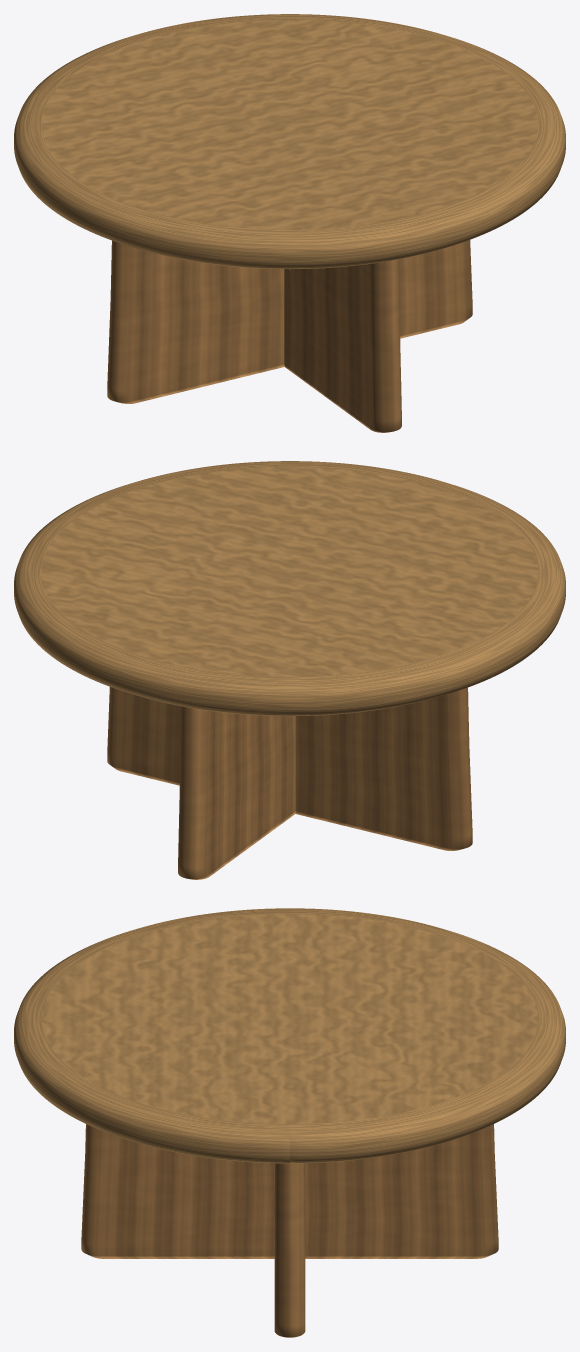
Rendered from round_wood_coffee_table.glb.
The picture shows the model from 3 angles, top to bottom: view 1: azimuth 30°, elevation 25°; view 2: azimuth 150°, elevation 25°; view 3: azimuth 270°, elevation 25°; orthographic projection.
Parts seen in each view (by area): view 1: Top Surface, Top Rounded Edge, Cross Pedestal A, Cross Pedestal B; view 2: Top Surface, Top Rounded Edge, Cross Pedestal A, Cross Pedestal B; view 3: Top Surface, Cross Pedestal B, Top Rounded Edge, Cross Pedestal A.
Boxes of the visible parts, box(x1,y1,x2,y2) form: Top Surface: box(41, 20, 538, 229); Top Rounded Edge: box(14, 14, 565, 269); Cross Pedestal A: box(107, 240, 472, 403); Cross Pedestal B: box(284, 259, 401, 432); Top Surface: box(41, 467, 538, 676); Top Rounded Edge: box(14, 461, 565, 716); Cross Pedestal A: box(107, 687, 472, 850); Cross Pedestal B: box(178, 706, 295, 879); Top Surface: box(41, 914, 538, 1123); Cross Pedestal B: box(81, 1124, 498, 1258); Top Rounded Edge: box(14, 908, 565, 1163); Cross Pedestal A: box(274, 1163, 305, 1337).
Bounding box in the file's own units: 0.9 × 0.42 × 0.9.
2 materials, 2 textured.
